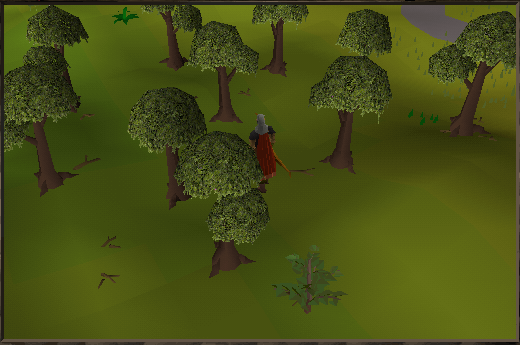Tree: (421, 19, 514, 141), (0, 61, 85, 192), (186, 144, 261, 288), (313, 59, 390, 173), (134, 90, 197, 223), (145, 0, 196, 76), (258, 0, 307, 76), (205, 24, 240, 121)
